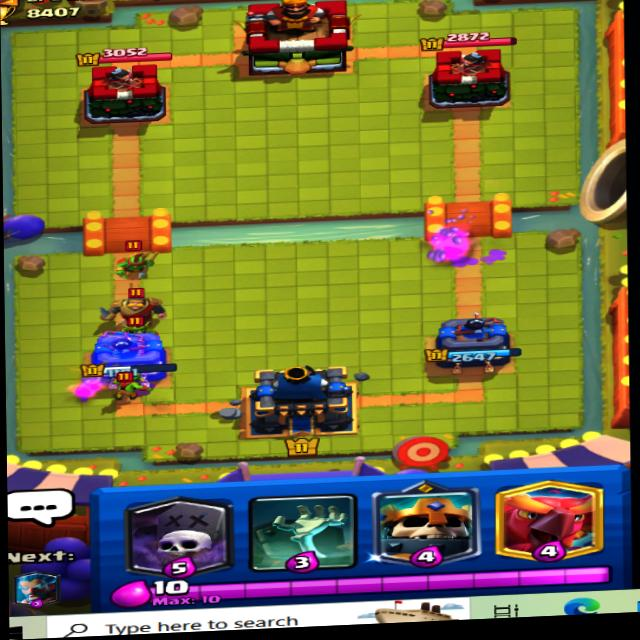goblin: (108, 372, 153, 405), (106, 318, 156, 338)
knight: (84, 280, 179, 333)
spear-goblin: (105, 234, 175, 282)
